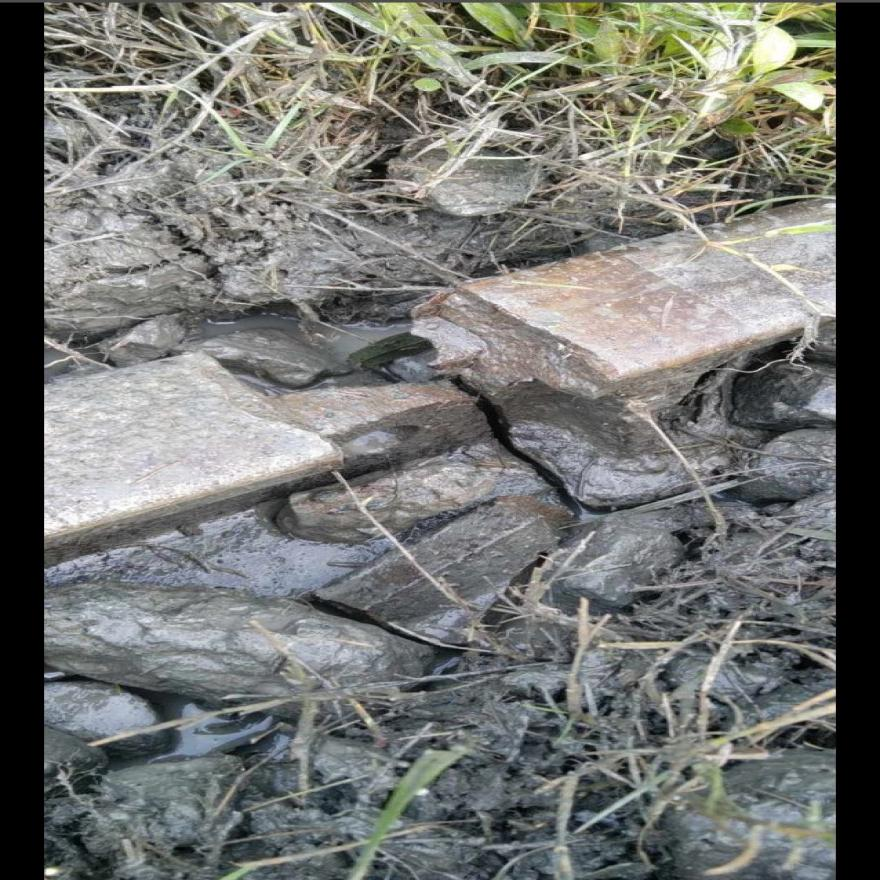railway-gap: (133, 265, 729, 570)
